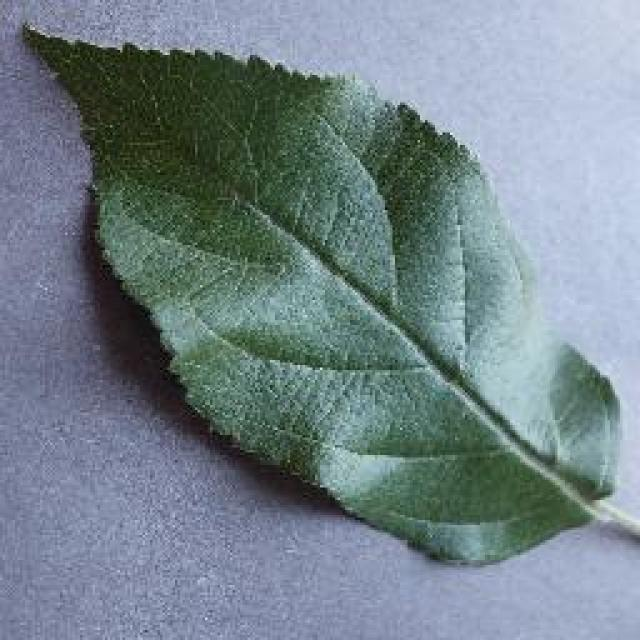apple healthy: (18, 18, 638, 568)
